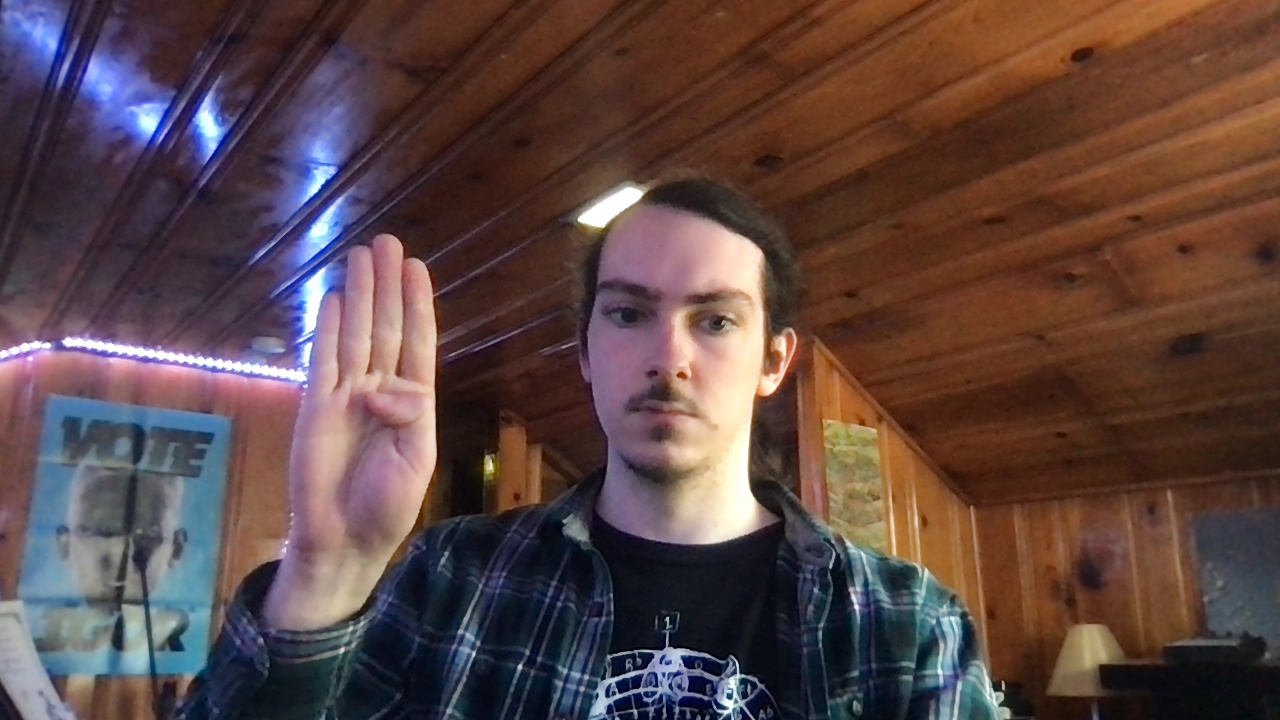b: (286, 231, 442, 558)
